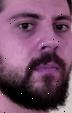without_mask: (1, 1, 72, 113)
